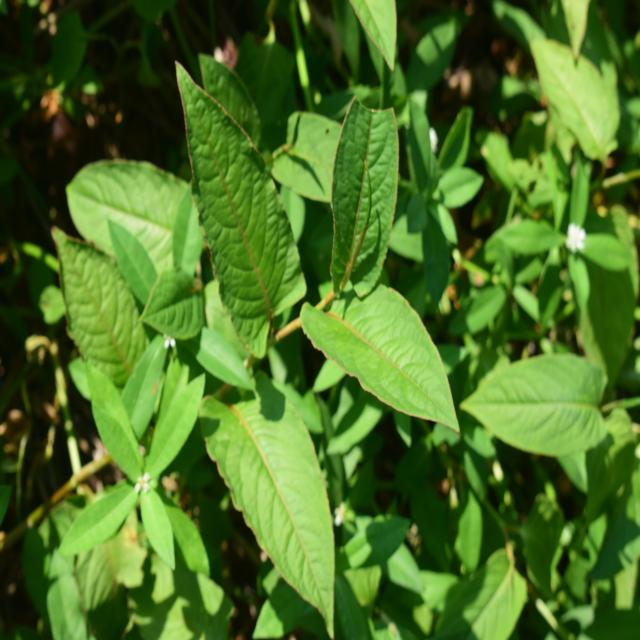Chinese_knotweed: (181, 64, 449, 483)
